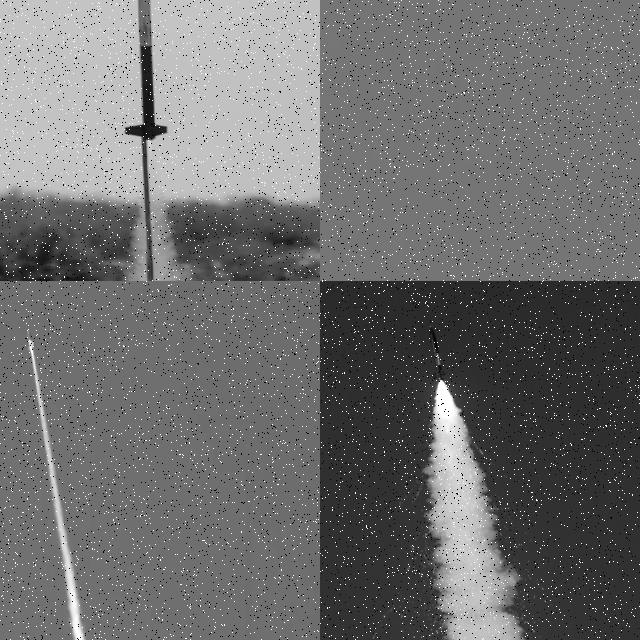Rocket: (125, 0, 169, 143), (429, 325, 447, 381), (26, 331, 34, 352)
